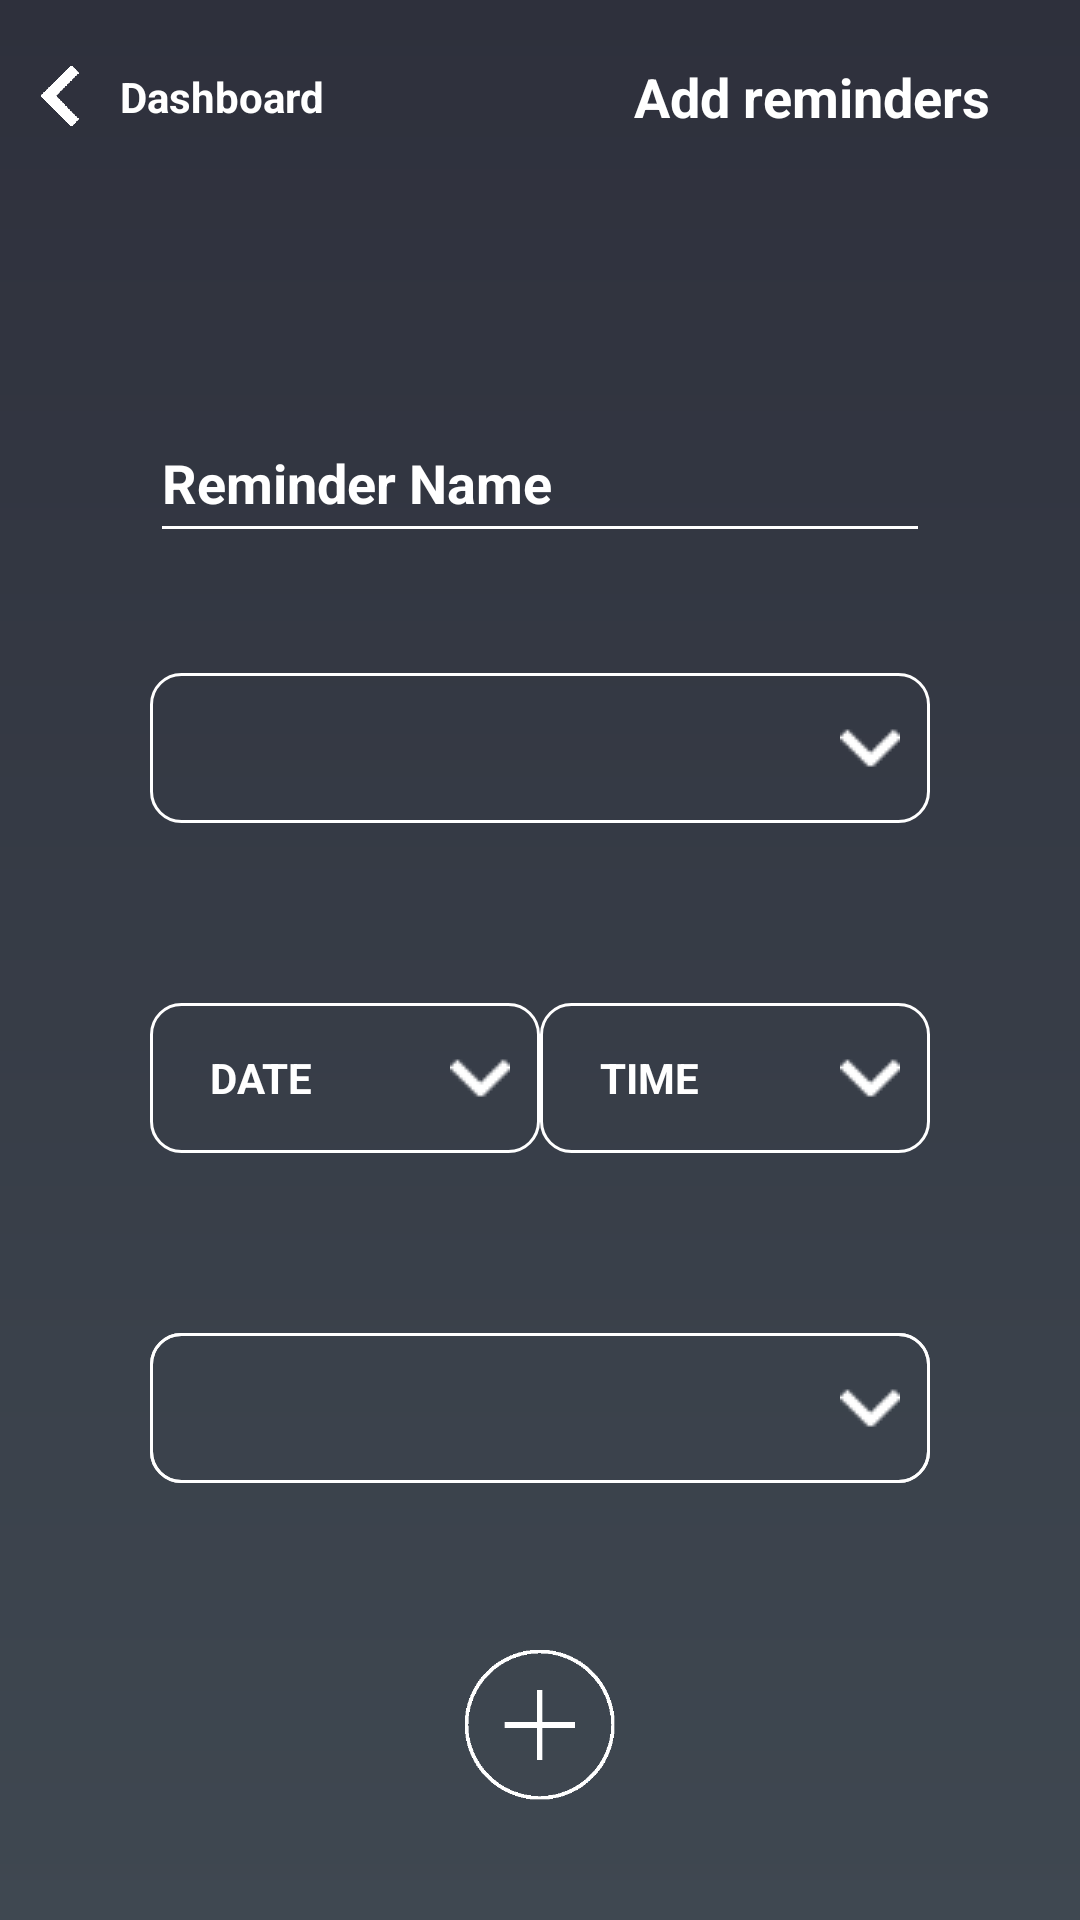

Point at icon controls on the screen. Image size 1080 × 1920, points as [x,y].
add: [540,1725]
back: [60,96]
